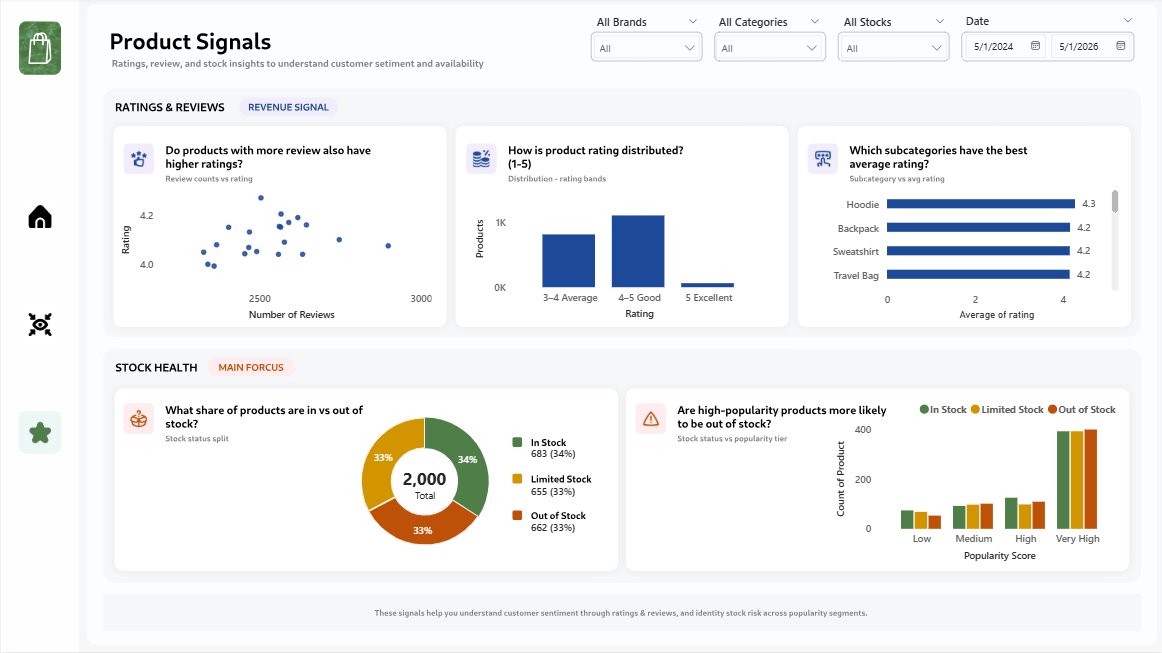

The page's visual inventory and layout, read from the dashboard file:
{"tool":"powerbi","page":{"name":"Signals","canvas":[1280,720],"ordinal":3},"visuals":[{"type":"actionButton","box":[8.8,325.6,67.8,67.8],"z":0},{"type":"actionButton","box":[8.9,206.7,67.8,67.8],"z":1000},{"type":"actionButton","box":[8.8,443.3,67.8,67.8],"z":2000},{"type":"slicer","fields":{"Values":["Products.brand"]},"box":[641.7,14.3,136.4,61.1],"z":3000},{"type":"slicer","fields":{"Values":["Products.category"]},"box":[776.8,14.3,136.4,61.1],"z":4000},{"type":"slicer","fields":{"Values":["Products.stock_status"]},"box":[913.3,14.3,136.4,61.1],"z":5000},{"type":"slicer","fields":{"Values":["Date Table.Date"]},"box":[1047.8,13.3,208.9,61.1],"z":6000},{"type":"donutChart","fields":{"Y":["CountNonNull(Products.stock_status)"],"Category":["Products.stock_status"]},"box":[324.4,438,283.3,190],"z":7000},{"type":"cardVisual","fields":{"Data":["Products.Stock Status Count"]},"box":[416.7,488.8,98.9,72.2],"z":8000},{"type":"textbox","box":[440.6,533.2,51.1,31.1],"z":9000},{"type":"cardVisual","fields":{"Data":["Products.() Out of Stock"]},"box":[572.2,556.6,107.8,42.2],"z":10000},{"type":"cardVisual","fields":{"Data":["Products.() Limited Stock"]},"box":[572.2,516.6,107.8,40],"z":11000},{"type":"cardVisual","fields":{"Data":["Products.() In Stock"]},"box":[572.2,475.4,107.8,40],"z":12000},{"type":"barChart","fields":{"Category":["Products.subcategory"],"Y":["Avg(Products.rating)"]},"box":[886.7,198.9,347.8,161.1],"z":13000},{"type":"scatterChart","fields":{"X":["Avg(Products.reviews_count)"],"Y":["Avg(Products.rating)"],"Category":["Products.product_name"]},"box":[127.8,200,351.1,161.1],"z":14000},{"type":"columnChart","fields":{"Y":["CountNonNull(Products.product_name)"],"Category":["Products.rating_band"]},"box":[516.7,198.9,327.8,161.1],"z":15000},{"type":"clusteredColumnChart","fields":{"Category":["Products.popularity_tier"],"Series":["Products.stock_status"],"Y":["CountNonNull(Products.product_name)"]},"box":[913.3,434.4,321.1,191.1],"z":16000}]}

Visuals, with their boxes on the page's 1280x720 design canvas (x1, y1, x2, y2). These are canvas units, not pixel positions in the 1162x653 screenshot, which may show the page scaled, cropped or inside an application window:
actionButton: 9/326/77/393
actionButton: 9/207/77/274
actionButton: 9/443/77/511
slicer - Products.brand: 642/14/778/75
slicer - Products.category: 777/14/913/75
slicer - Products.stock_status: 913/14/1050/75
slicer - Date Table.Date: 1048/13/1257/74
donutChart - CountNonNull(Products.stock_status) x Products.stock_status: 324/438/608/628
cardVisual - Products.Stock Status Count: 417/489/516/561
textbox: 441/533/492/564
cardVisual - Products.() Out of Stock: 572/557/680/599
cardVisual - Products.() Limited Stock: 572/517/680/557
cardVisual - Products.() In Stock: 572/475/680/515
barChart - Products.subcategory x Avg(Products.rating): 887/199/1234/360
scatterChart - Avg(Products.reviews_count) x Avg(Products.rating): 128/200/479/361
columnChart - CountNonNull(Products.product_name) x Products.rating_band: 517/199/844/360
clusteredColumnChart - Products.popularity_tier x Products.stock_status: 913/434/1234/626
